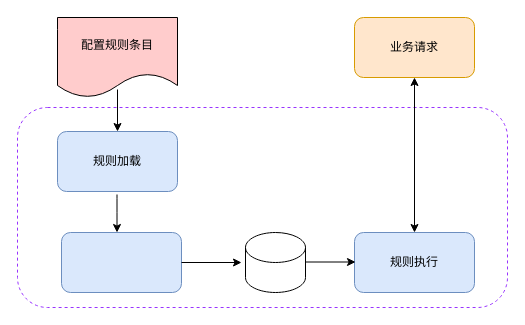
Some shapes in this 525 by 325 pixel diagram are drawn without their labels. The shapes that lost their labels are listed below. From the top down, each one's box as (x1, y1, x2, y2) in pixels, then its label:
(60, 232, 182, 292): 规则管理
(244, 232, 306, 292): 存储
